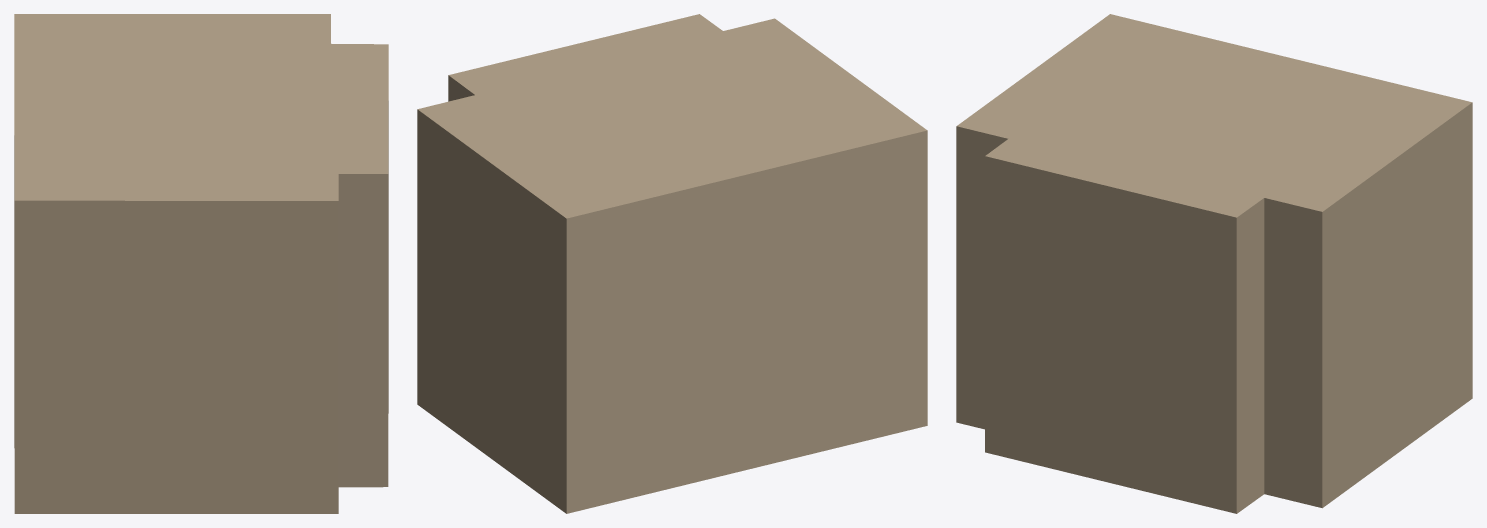
File: bld_101245921.dae
3 renders of one model, left to right at view 1: azimuth 30°, elevation 25°; view 2: azimuth 150°, elevation 25°; view 3: azimuth 270°, elevation 25°, orthographic. The views are drawn at different scales.
Visible parts, largest first — view 1: bld_101245921; view 2: bld_101245921; view 3: bld_101245921.
Boxes of the visible parts, <box> form: bld_101245921: <box>14,14,388,513</box>; bld_101245921: <box>417,14,927,513</box>; bld_101245921: <box>956,14,1472,513</box>.
Size of the model in its own units: 10.32 by 11.05 by 7.
